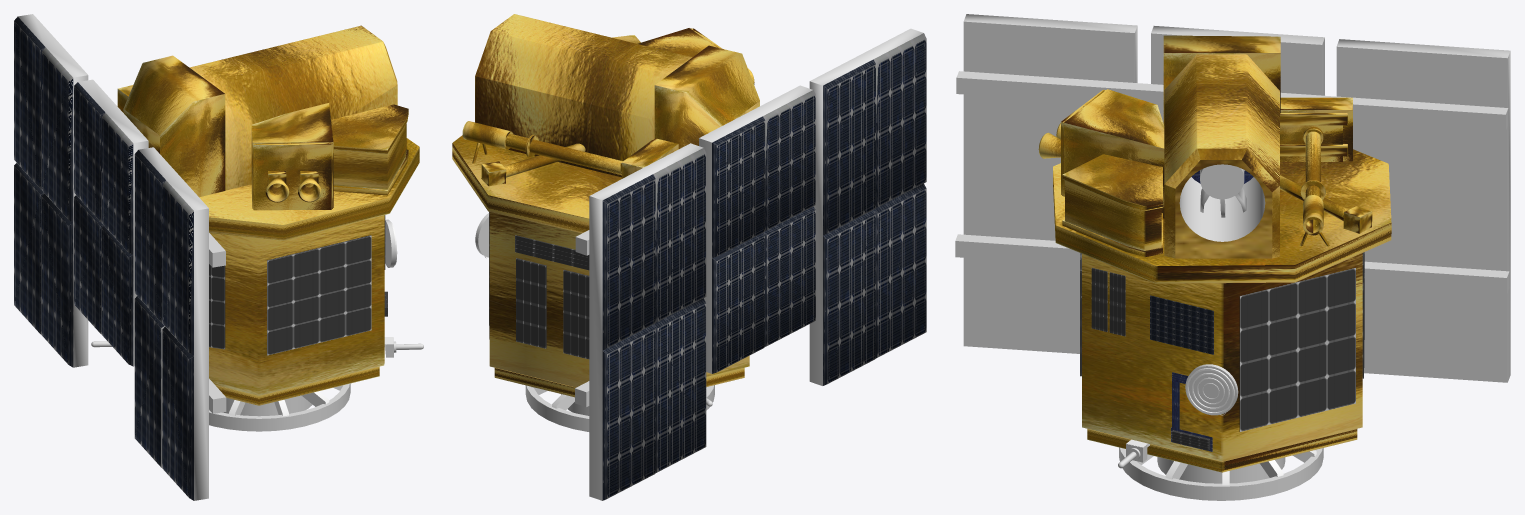
The model's file is theos_01.glb.
The picture shows the model from 3 angles, left to right: view 1: azimuth 30°, elevation 25°; view 2: azimuth 150°, elevation 25°; view 3: azimuth 270°, elevation 25°; orthographic projection. The views are drawn at different scales.
Visible parts, largest first — view 1: Cube_17_2, Cube_17_3, Extrude_NURBS_2, Cube_17, Boole, Cube_4_2, Cube_2_2, Tube_9, Extrude_NURBS_1, Cap_2_4, Cube, Extrude_NURBS_5 (+8 smaller); view 2: Cube_17_3, Cube_17_2, Cube_17, Boole, Extrude_NURBS_2, Cube_2_2, Cap_2_4, Cube_5, Extrude_NURBS_1, Cube_6, Tube_7, Tube_6_2 (+7 smaller); view 3: Cube_17_3, Cube_17_2, Extrude_NURBS_2, Boole, Cube_1, Cap_2_4, Cube_16, Cube, Cube_19, Extrude_NURBS_1, Cube_17, Extrude_NURBS_5 (+20 smaller).
Boxes of the visible parts, box(x1,y1,x2,y2) form: Cube_17_2: box(134, 147, 208, 500); Cube_17_3: box(14, 14, 88, 367); Extrude_NURBS_2: box(209, 215, 384, 395); Cube_17: box(74, 79, 148, 366); Boole: box(189, 25, 397, 190); Cube_4_2: box(267, 235, 371, 355); Cube_2_2: box(123, 55, 225, 197); Tube_9: box(253, 142, 332, 210); Extrude_NURBS_1: box(209, 147, 419, 240); Cap_2_4: box(199, 138, 419, 224); Cube: box(251, 103, 333, 208); Extrude_NURBS_5: box(333, 123, 406, 189); Cube_17_3: box(589, 143, 706, 500); Cube_17_2: box(809, 28, 926, 385); Cube_17: box(699, 85, 815, 373); Boole: box(475, 14, 691, 177); Extrude_NURBS_2: box(489, 212, 749, 387); Cube_2_2: box(654, 45, 759, 148); Cap_2_4: box(452, 135, 621, 218); Cube_5: box(516, 258, 546, 348); Extrude_NURBS_1: box(452, 143, 589, 233); Cube_6: box(563, 269, 589, 359); Tube_7: box(505, 133, 622, 175); Tube_6_2: box(525, 385, 714, 431); Cube_17_3: box(1336, 39, 1510, 382); Cube_17_2: box(963, 14, 1137, 353); Extrude_NURBS_2: box(1082, 253, 1362, 461); Boole: box(1164, 54, 1279, 258); Cube_1: box(1239, 268, 1355, 431); Cap_2_4: box(1053, 149, 1391, 265); Cube_16: box(956, 71, 1508, 130); Cube: box(1063, 89, 1164, 218); Cube_19: box(955, 234, 1509, 294); Extrude_NURBS_1: box(1053, 171, 1391, 283); Cube_17: box(1151, 26, 1324, 122); Extrude_NURBS_5: box(1064, 180, 1161, 250).
Size of the model in its own units: 6.41 by 6.49 by 8.69.
Materials: 6 (4 with a texture image).
